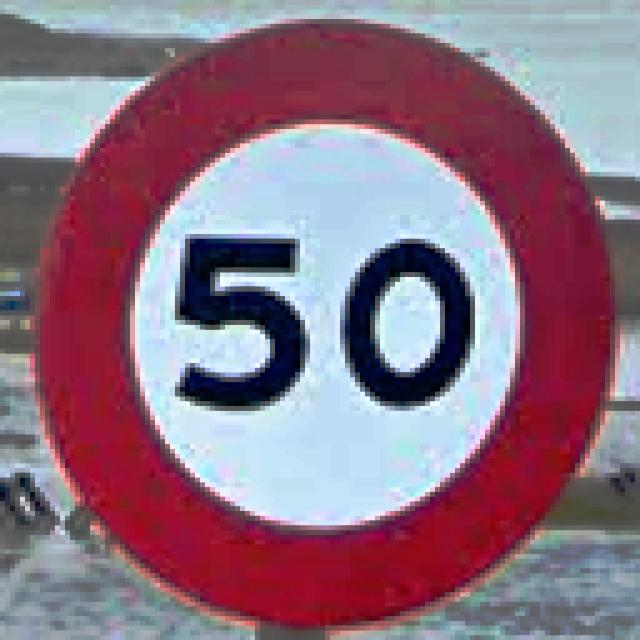max50: (25, 14, 620, 626)
